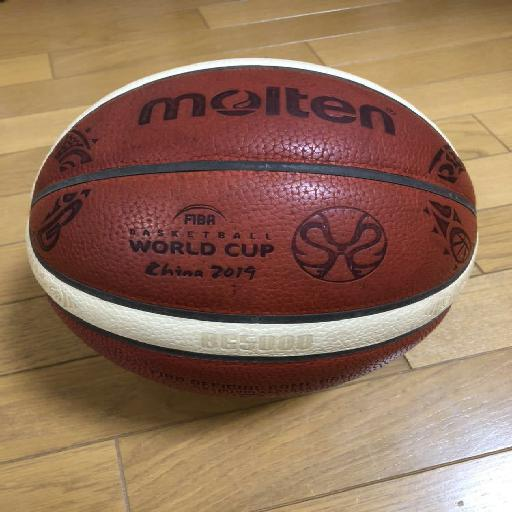ball: (29, 57, 477, 399)
